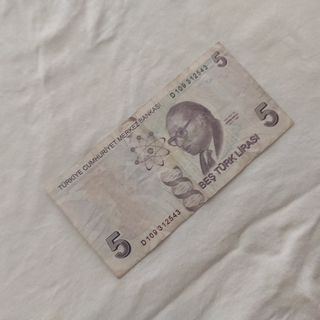5TLBack: (44, 39, 296, 279)
